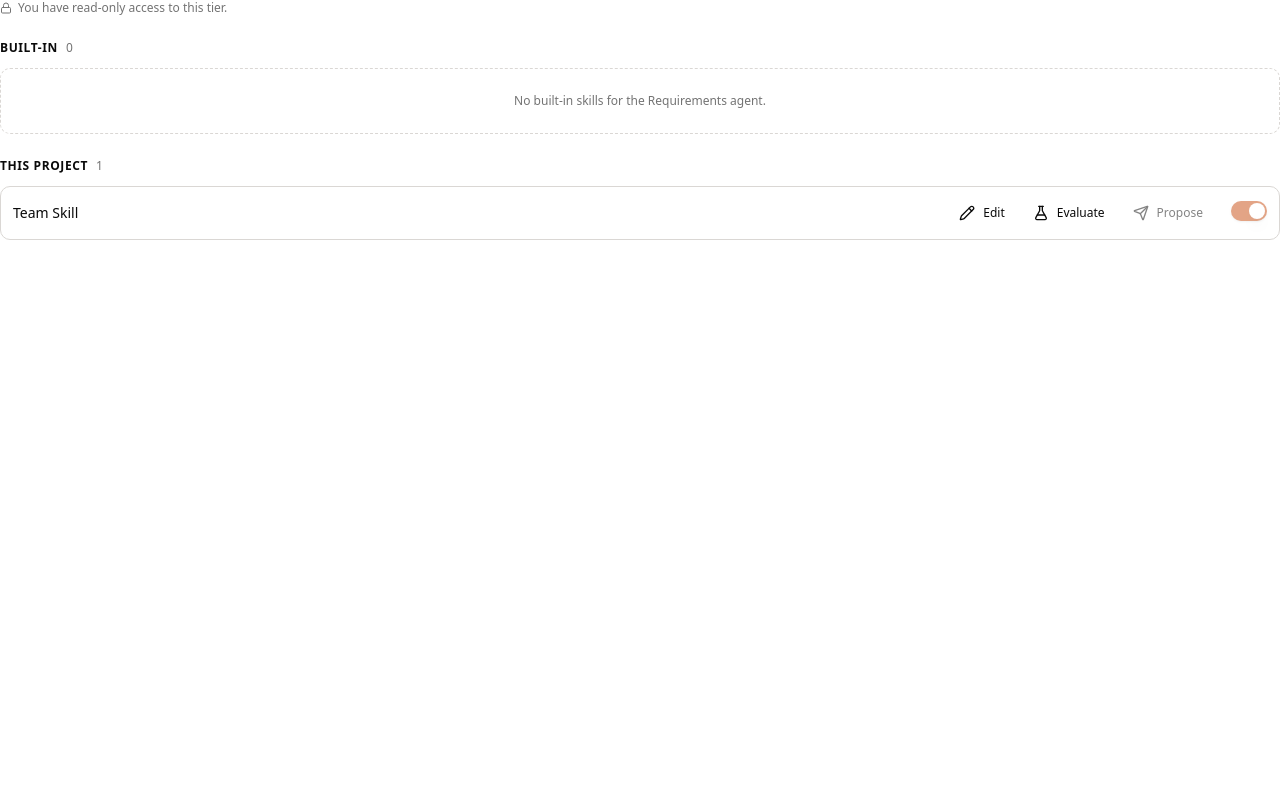
Scenario: SkillsTab cascade awareness › clears a cached PASS evaluation after a non-owner edits the skill again, so Propose goes back to disabled
The width and height of the screenshot is (1280, 800).
Check: the text "Team Skill" is shown, box [13, 203, 78, 223]
Click the button "Evaluate" at (1069, 213), box [1021, 197, 1117, 229]
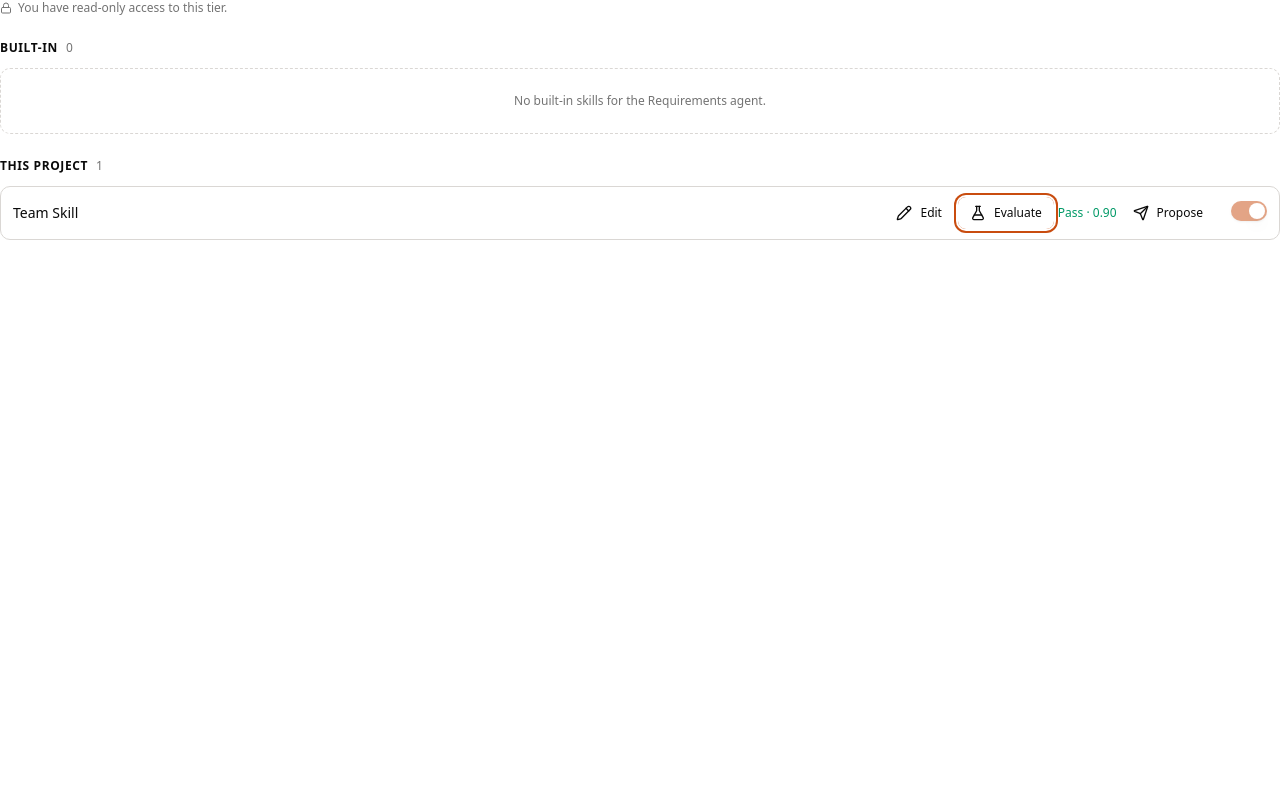
Check: the button "Propose" is enabled, box [1121, 197, 1215, 229]
Click the button with aria-label "edit team skill" at (919, 213), box [884, 197, 954, 229]
(page scrolled)
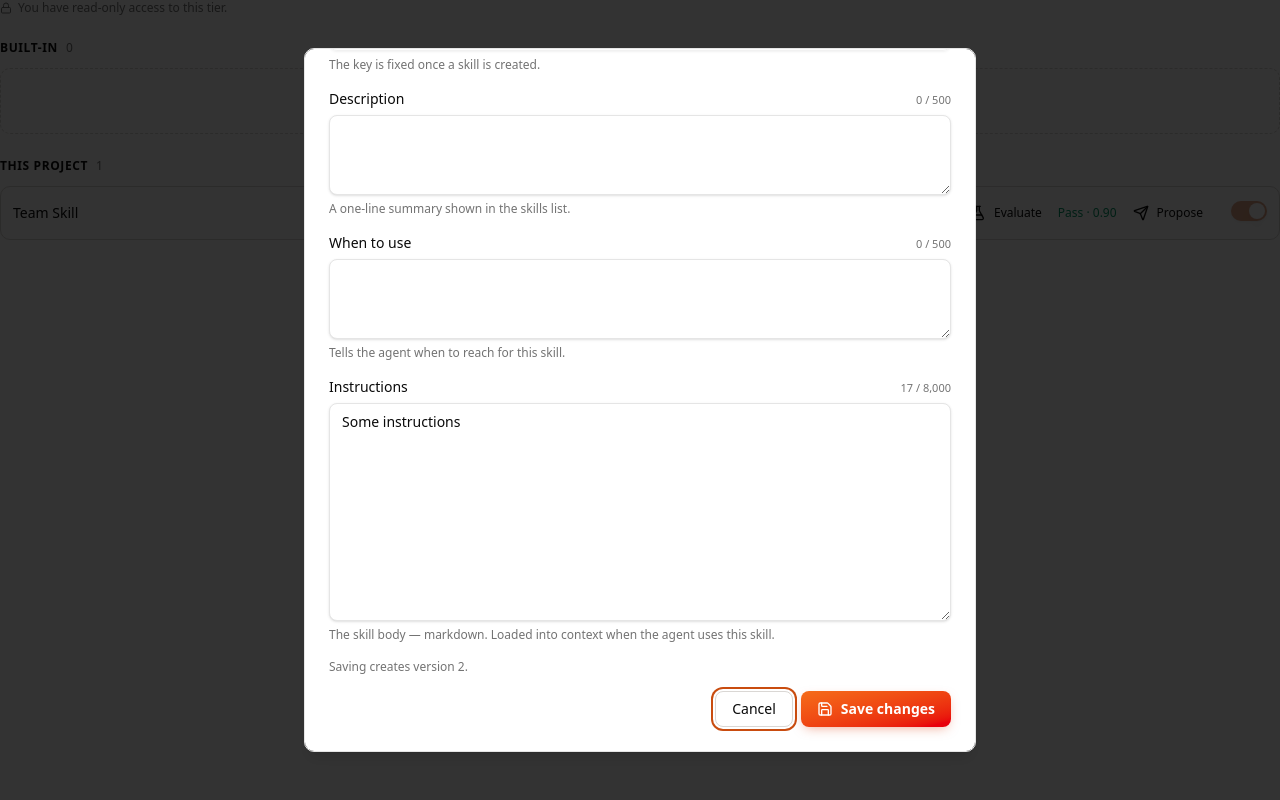
Click the button "Save changes" at (876, 709), box [801, 691, 951, 727]
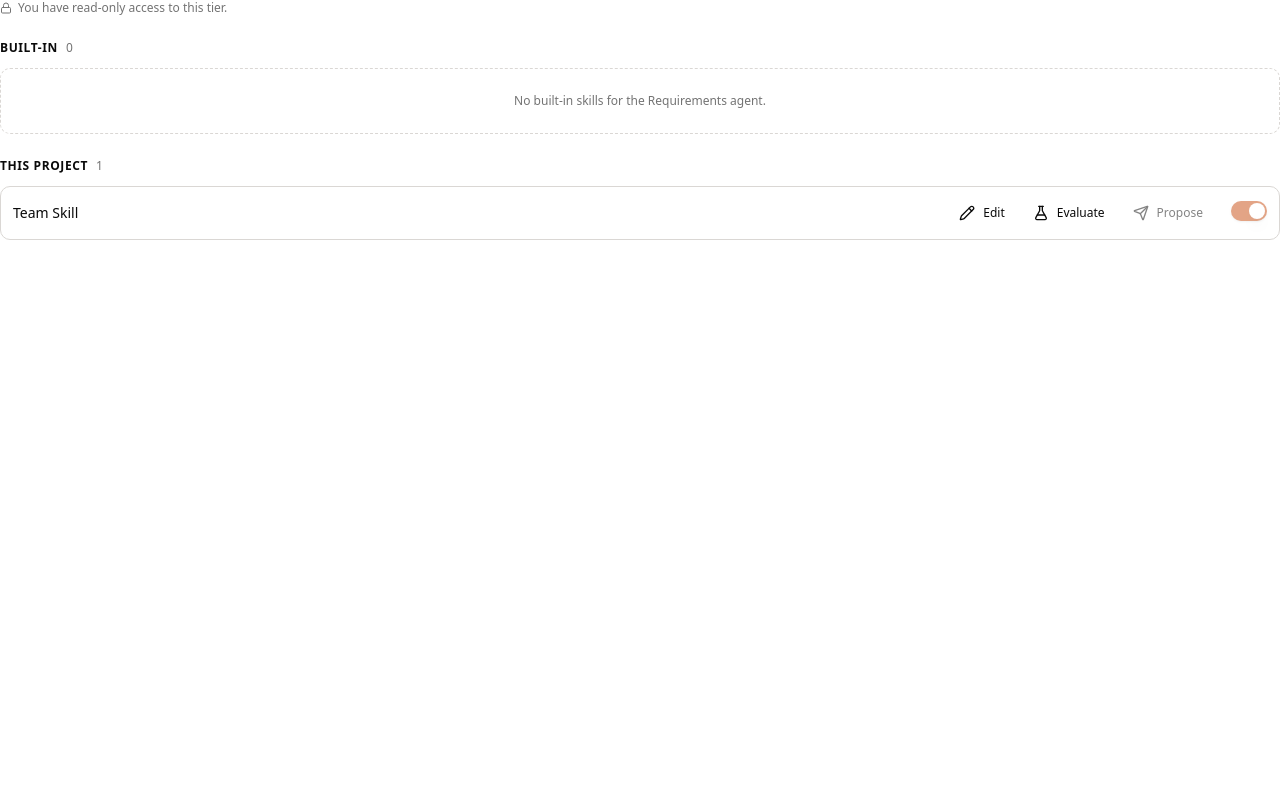
Check: the text "Team Skill" is shown, box [13, 203, 78, 223]
Check: the button "Propose" is disabled, box [1121, 197, 1215, 229]
